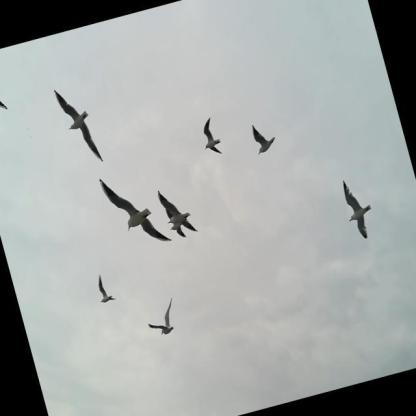bird: (96, 160, 172, 255), (50, 79, 105, 169), (336, 173, 379, 245), (156, 182, 199, 241), (142, 295, 183, 340), (197, 113, 226, 161), (249, 116, 279, 158), (92, 267, 118, 306), (163, 203, 187, 242)
